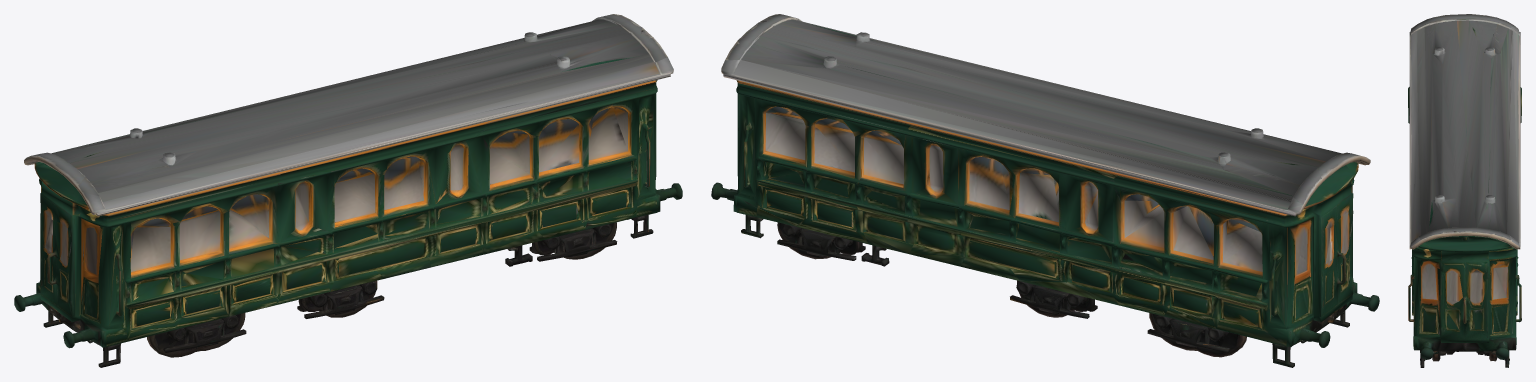
Rendered from carriage.glb.
3 views of the same model, side by side, from view 1: azimuth 30°, elevation 25°; view 2: azimuth 150°, elevation 25°; view 3: azimuth 270°, elevation 25° (orthographic). The views are drawn at different scales.
Parts seen in each view (by area): view 1: body; view 2: body; view 3: body.
Boxes of the visible parts, x1,y1,x2,y2 form: body: (14,14,682,367); body: (711,14,1379,367); body: (1408,14,1521,367).
Bounding box in the file's own units: 10.8 × 3.4 × 2.26.
Materials: 1 (1 with a texture image).
